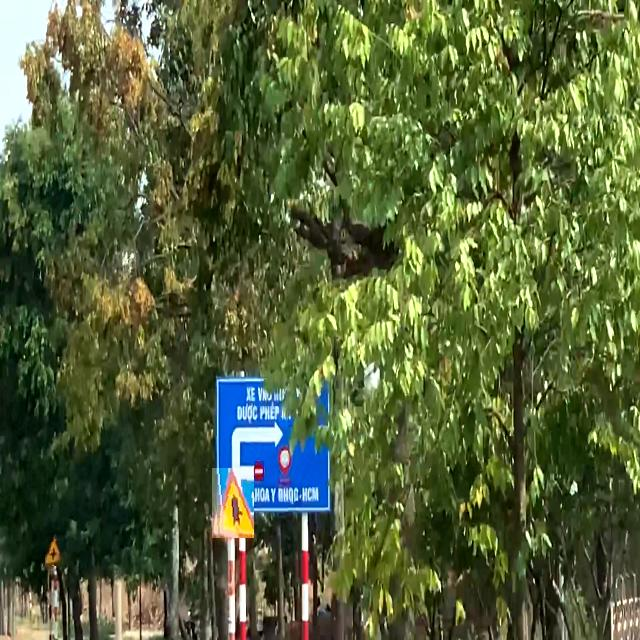41: (45, 535, 64, 566)
45: (212, 468, 254, 538)
bien_chi_dan: (254, 461, 264, 481)
